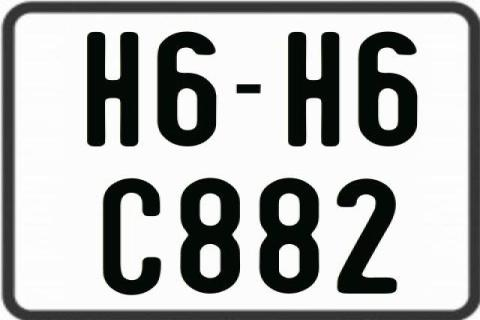0: (177, 178, 243, 294), (358, 31, 422, 149), (258, 176, 322, 294), (334, 177, 398, 293), (157, 32, 218, 146)
C: (102, 178, 165, 300)
H: (85, 30, 142, 150), (286, 31, 342, 149)
